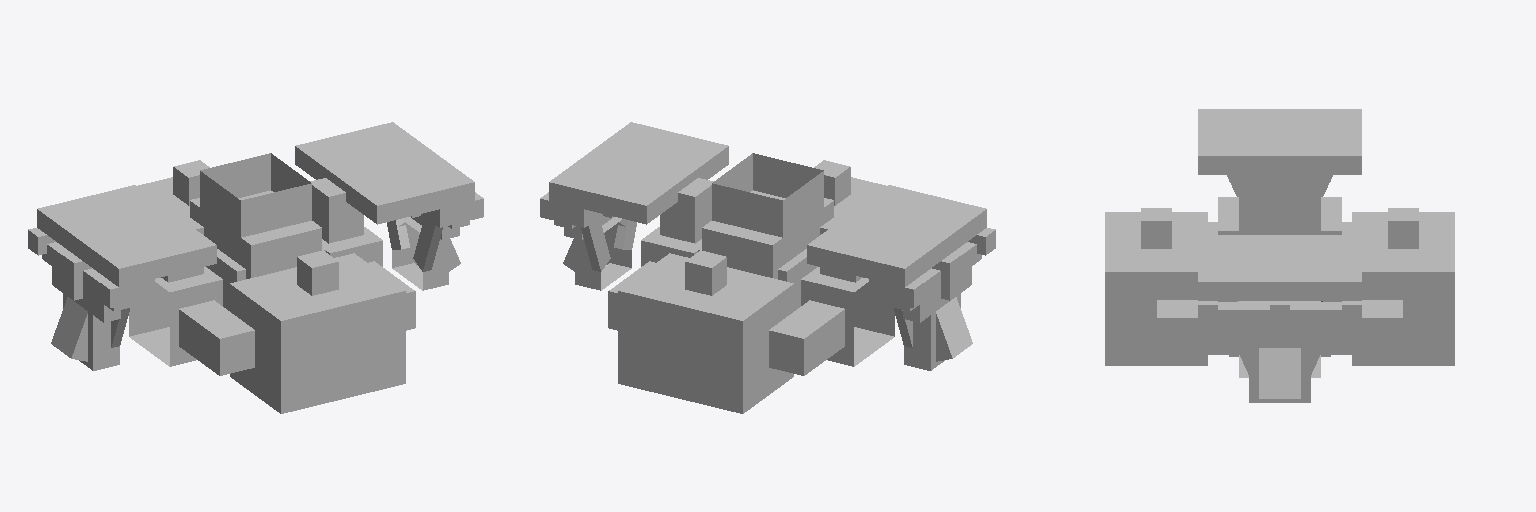
Rendered from frame.obj.
3 views of the same model, side by side, from view 1: azimuth 30°, elevation 25°; view 2: azimuth 150°, elevation 25°; view 3: azimuth 270°, elevation 25° (orthographic).
Visible parts, largest first — view 1: cube_17, cube_21, cube_31, cube_0, cube_14, cube_10, cube_19, cube_20, cube_25, cube_2, cube_18, cube_1 (+12 smaller); view 2: cube_8, cube_21, cube_31, cube_0, cube_14, cube_10, cube_15, cube_20, cube_25, cube_2, cube_9, cube_1 (+12 smaller); view 3: cube_8, cube_17, cube_31, cube_21, cube_0, cube_13, cube_16, cube_28, cube_26, cube_10, cube_27, cube_9 (+3 smaller).
Part boxes in pixels (bbox=[...]): cube_17: bbox=[230, 253, 405, 413]; cube_21: bbox=[37, 185, 216, 287]; cube_31: bbox=[295, 122, 474, 224]; cube_0: bbox=[200, 153, 311, 237]; cube_14: bbox=[129, 267, 222, 366]; cube_10: bbox=[190, 190, 321, 278]; cube_19: bbox=[179, 300, 254, 375]; cube_20: bbox=[310, 178, 363, 243]; cube_25: bbox=[392, 217, 448, 290]; cube_2: bbox=[51, 297, 87, 361]; cube_18: bbox=[297, 250, 338, 295]; cube_1: bbox=[63, 293, 119, 370]; cube_8: bbox=[618, 253, 793, 413]; cube_21: bbox=[807, 185, 986, 287]; cube_31: bbox=[549, 122, 728, 224]; cube_0: bbox=[712, 153, 823, 237]; cube_14: bbox=[801, 267, 894, 366]; cube_10: bbox=[702, 190, 833, 278]; cube_15: bbox=[769, 300, 844, 375]; cube_20: bbox=[660, 178, 713, 243]; cube_25: bbox=[575, 217, 631, 290]; cube_2: bbox=[936, 297, 972, 361]; cube_9: bbox=[685, 250, 726, 295]; cube_1: bbox=[904, 293, 960, 370]; cube_8: bbox=[1352, 212, 1454, 365]; cube_17: bbox=[1105, 212, 1207, 365]; cube_31: bbox=[1198, 235, 1361, 300]; cube_21: bbox=[1198, 109, 1361, 174]; cube_0: bbox=[1239, 159, 1320, 230]; cube_13: bbox=[1321, 300, 1402, 354]; cube_16: bbox=[1157, 300, 1238, 354]; cube_28: bbox=[1208, 302, 1351, 328]; cube_26: bbox=[1259, 348, 1300, 398]; cube_10: bbox=[1218, 197, 1341, 234]; cube_27: bbox=[1229, 329, 1330, 347]; cube_9: bbox=[1388, 208, 1418, 248].
Bounding box in the file's own units: 2.74 × 1.06 × 2.12.